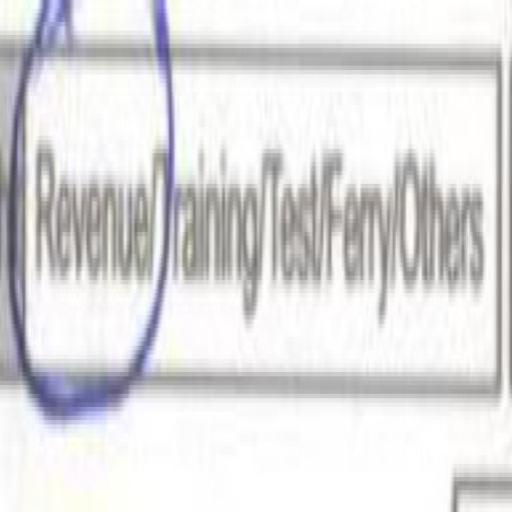check: (26, 0, 154, 487)
